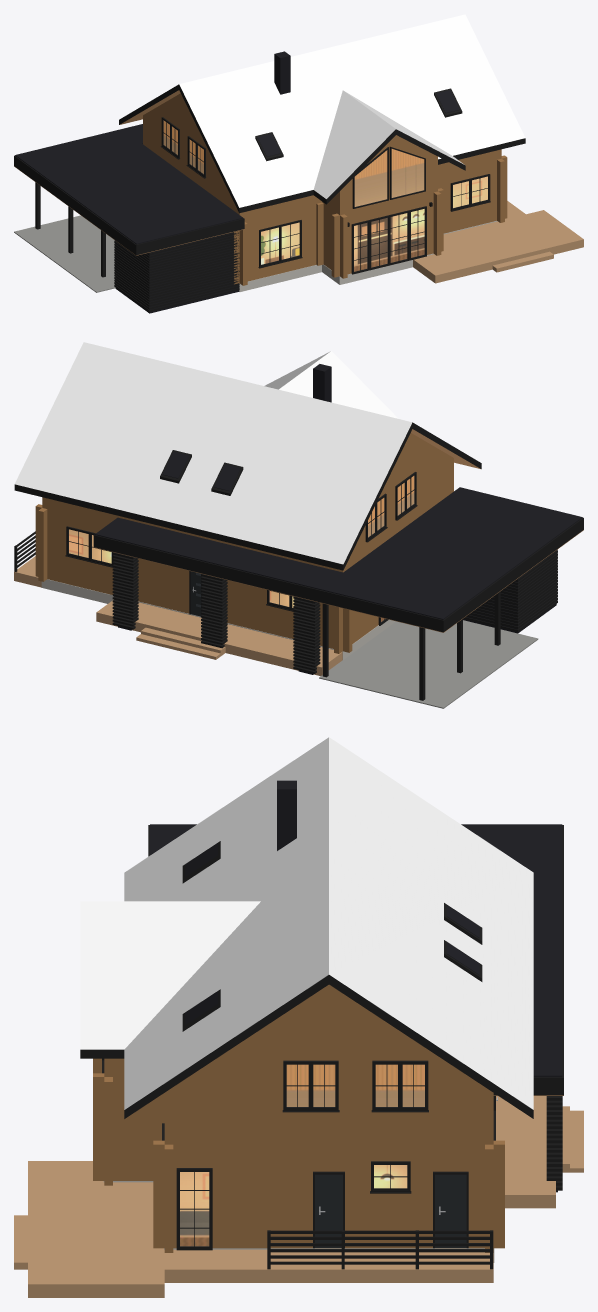
File: juno255_c0_p0_m1.glb
The picture shows the model from 3 angles, top to bottom: view 1: azimuth 30°, elevation 25°; view 2: azimuth 150°, elevation 25°; view 3: azimuth 270°, elevation 25°; orthographic projection. The views are drawn at different scales.
Parts seen in each view (by area): view 1: roof, metal, wall, fascia, room, deck, glass, frame, paving, plinth, soffit; view 2: roof, metal, fascia, wall, paving, deck, frame, room, plinth, glass, soffit, door; view 3: roof, wall, deck, metal, fascia, frame, room, glass, door.
Part boxes in pixels (x1,y1,x2,y2): roof: (179,14,525,207); metal: (15,51,459,313); wall: (143,93,507,285); fascia: (14,84,525,311); room: (163,120,487,271); deck: (413,201,583,283); glass: (164,121,487,271); frame: (161,88,490,274); paving: (14,215,115,292); plinth: (239,221,497,291); soffit: (14,90,244,255); roof: (15,342,412,564); metal: (95,364,582,674); fascia: (14,422,583,700); wall: (35,433,453,653); paving: (319,620,538,708); deck: (14,556,342,676); frame: (65,450,417,625); room: (69,476,414,621); plinth: (41,579,395,659); glass: (69,476,413,621); soffit: (93,429,583,632); door: (190,571,202,616); roof: (80,737,533,1109); wall: (93,984,504,1252); deck: (14,1096,583,1297); metal: (150,780,562,1192); fascia: (80,825,563,1269); frame: (102,841,495,1250); room: (180,1064,424,1246); glass: (180,1065,424,1245); door: (315,1174,466,1247).
Bounding box in the file's own units: 20.17 × 8.96 × 14.2.
Materials: 15 (5 with a texture image).
